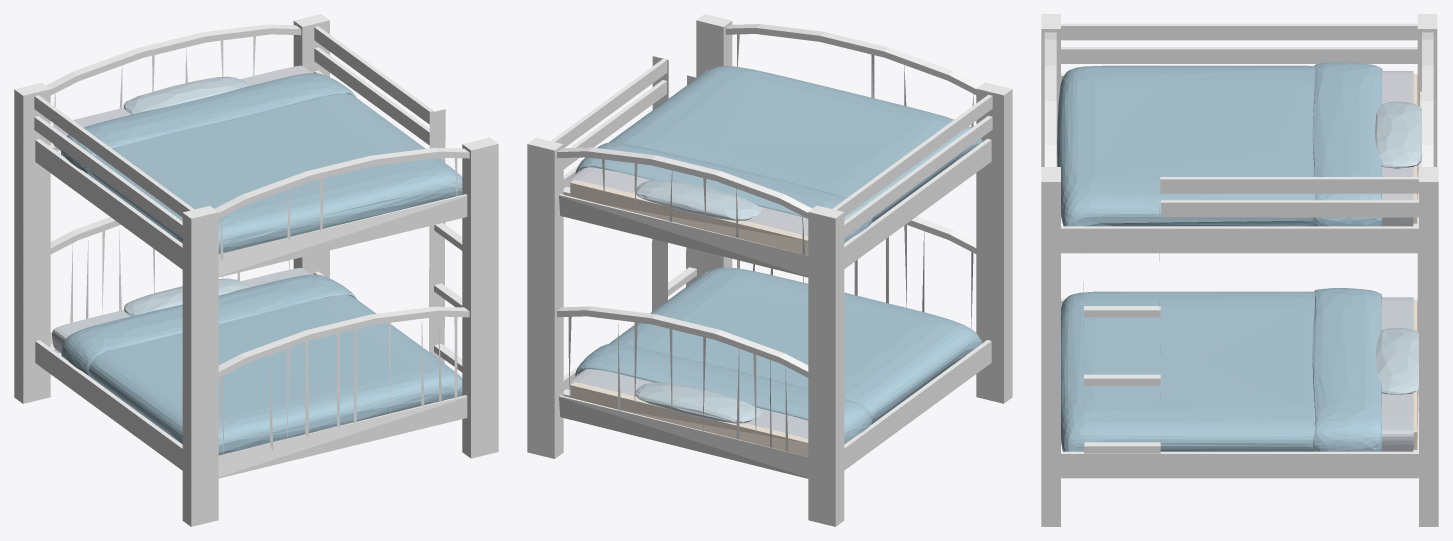
The model's file is sh-bsby-bunk-bed.glb.
3 renders of one model, left to right at view 1: azimuth 30°, elevation 25°; view 2: azimuth 150°, elevation 25°; view 3: azimuth 270°, elevation 25°, orthographic. The views are drawn at different scales.
Visible parts, largest first — view 1: Cube.054_Cube.057, Plane.002, Cube.058_Cube.060, Plane.004_Plane.005, Plane.001; view 2: Cube.054_Cube.057, Plane.002, Cube.056_Cube.059, Cube.058_Cube.060, Plane.004_Plane.005, Plane.001; view 3: Plane.002, Cube.054_Cube.057, Cube.058_Cube.060, Plane.004_Plane.005, Plane.001, Cube.056_Cube.059.
Part boxes in pixels (<box>): Cube.054_Cube.057: <box>14,14,498,526</box>; Plane.002: <box>61,73,462,455</box>; Cube.058_Cube.060: <box>123,76,249,316</box>; Plane.004_Plane.005: <box>52,268,311,352</box>; Plane.001: <box>53,65,312,150</box>; Cube.054_Cube.057: <box>527,14,1012,526</box>; Plane.002: <box>575,66,982,444</box>; Cube.056_Cube.059: <box>570,180,808,456</box>; Cube.058_Cube.060: <box>635,179,762,423</box>; Plane.004_Plane.005: <box>568,369,808,438</box>; Plane.001: <box>568,167,808,236</box>; Plane.002: <box>1057,62,1382,451</box>; Cube.054_Cube.057: <box>1041,14,1438,526</box>; Cube.058_Cube.060: <box>1375,101,1421,394</box>; Plane.004_Plane.005: <box>1381,297,1413,451</box>; Plane.001: <box>1382,71,1413,226</box>; Cube.056_Cube.059: <box>1413,74,1420,449</box>.
Size of the model in its own units: 1 by 0.9979 by 1.
